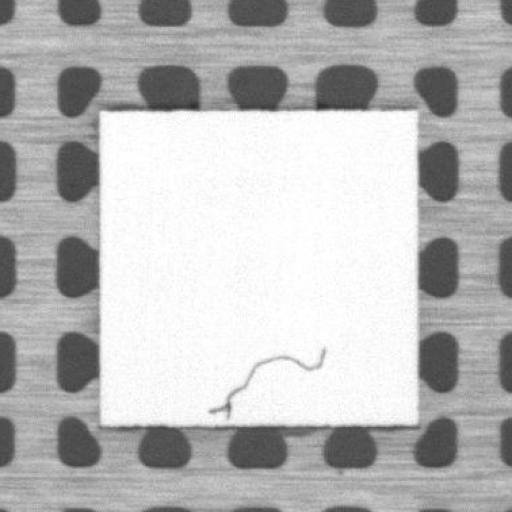DIE_INK: (207, 346, 325, 419)
